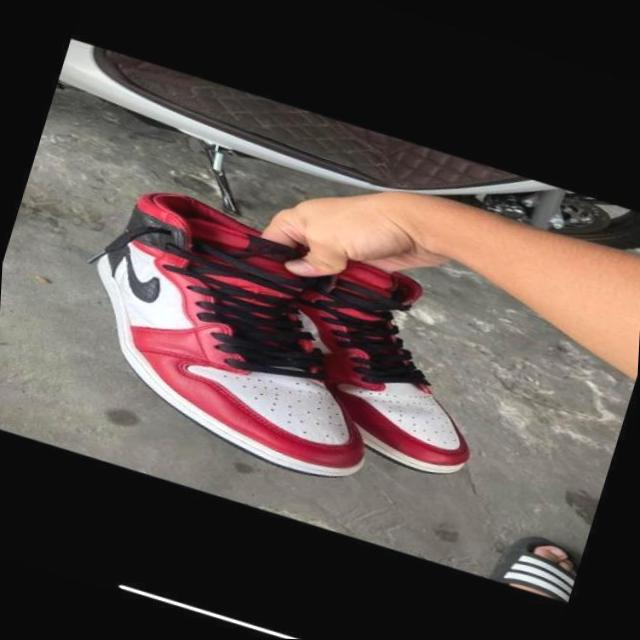nike_fake_jordan: (48, 170, 432, 495), (237, 236, 522, 487)
